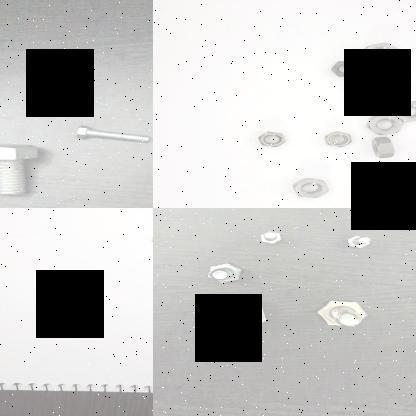Bolts: (0, 138, 51, 198), (199, 292, 271, 333), (68, 120, 153, 152), (308, 298, 372, 328), (198, 260, 248, 284), (334, 228, 381, 252), (250, 228, 286, 250)
NUTS: (357, 40, 403, 64), (354, 89, 396, 113), (361, 112, 403, 136), (288, 177, 330, 199), (326, 56, 362, 78), (340, 73, 376, 94), (254, 130, 288, 150), (370, 134, 396, 160), (322, 128, 353, 148), (392, 98, 416, 122), (392, 182, 416, 200), (380, 171, 410, 185)
